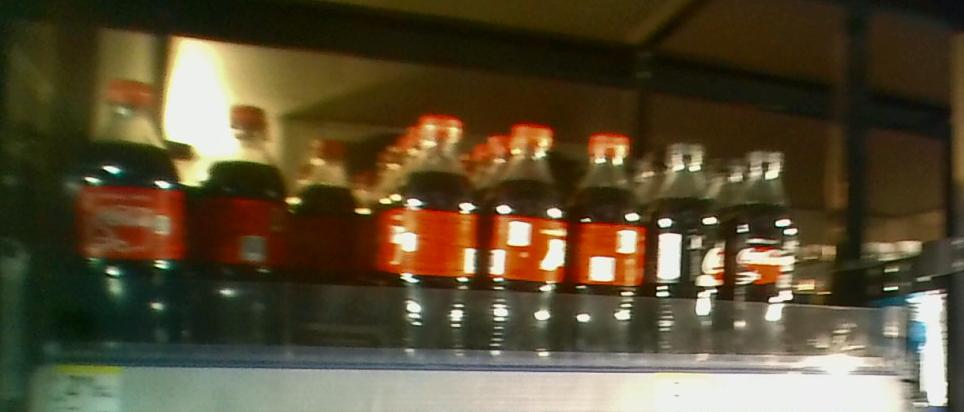bottle: (66, 62, 186, 351), (188, 90, 293, 351), (388, 109, 482, 351), (480, 119, 571, 357), (570, 121, 655, 354), (656, 124, 730, 354), (729, 122, 800, 354), (291, 136, 359, 346)
